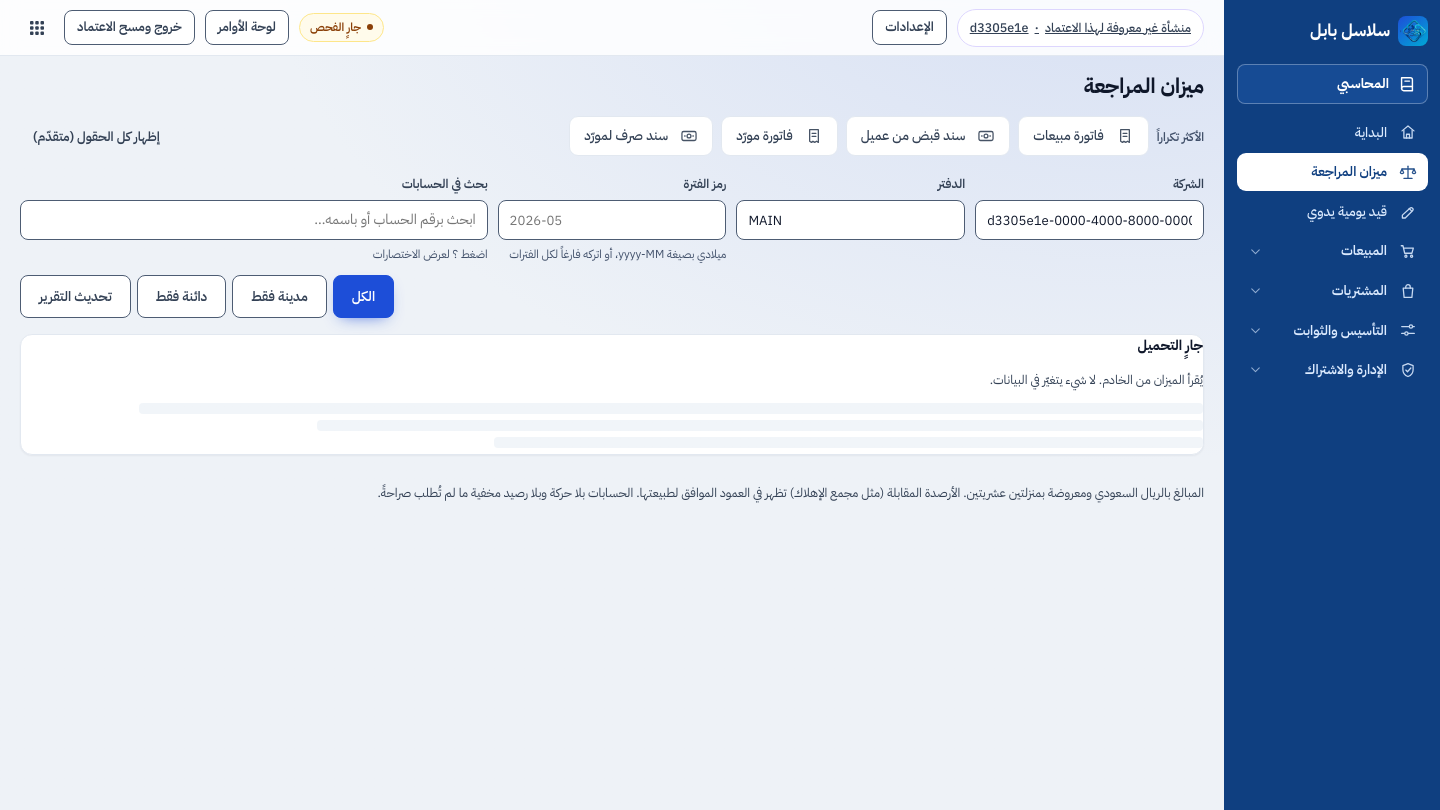
Test: الخروج — محوٌ لا إخفاء › زرُّ الرأس يمحو الاعتمادَ والتجديد، وتعود البوّابة
Click the button with test id "sign-out-shell" at {"x": 129, "y": 28}, box top-left (64, 10), bottom-right (195, 45)
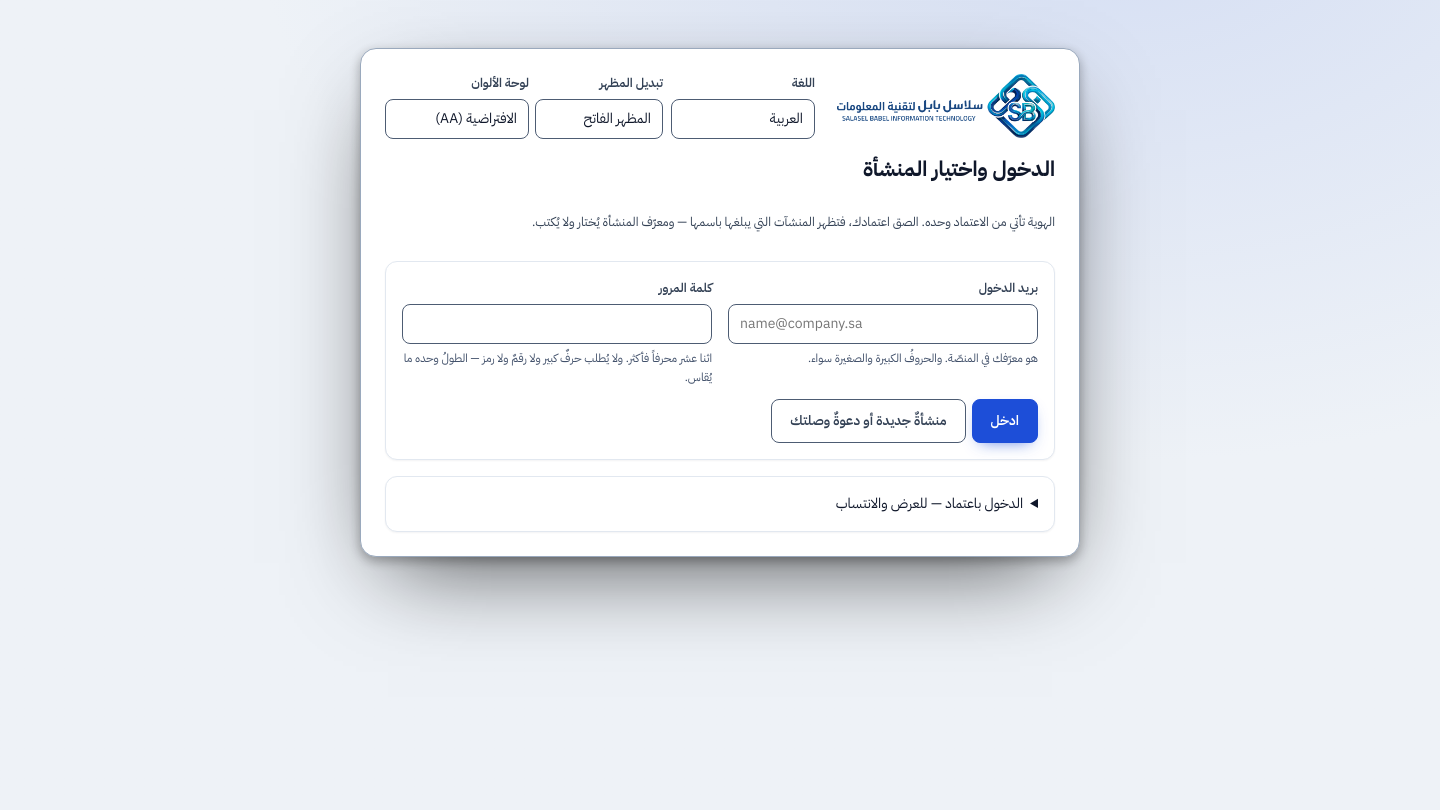
Now the element with test id "session-gate" is shown
